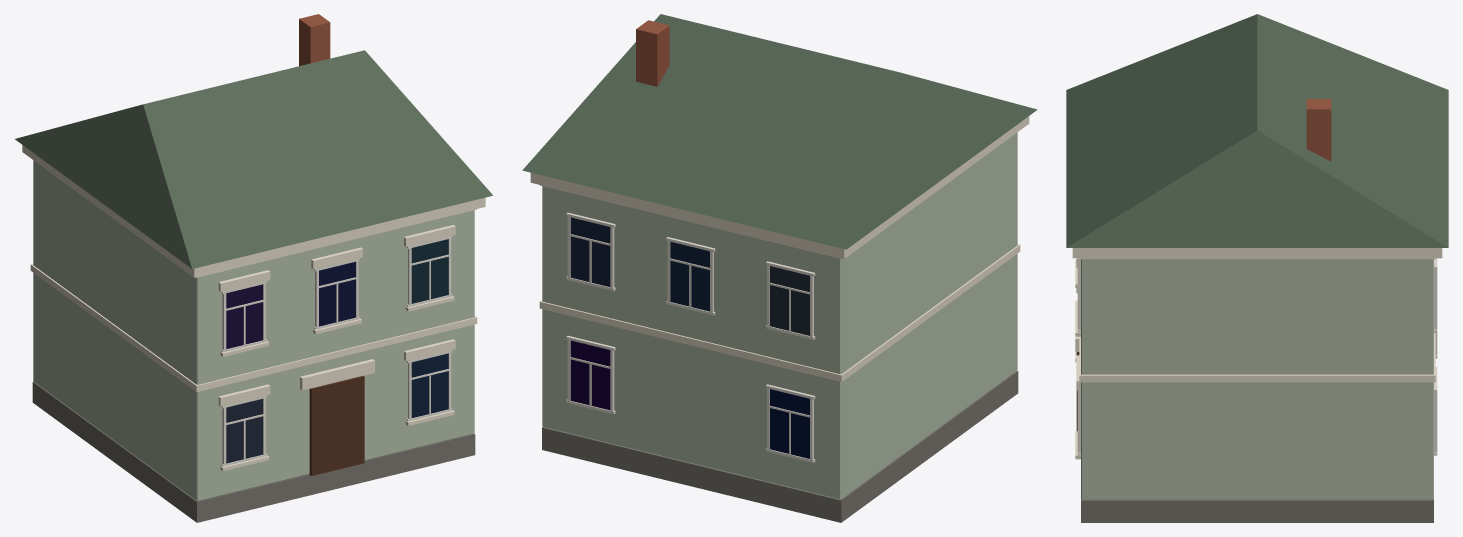
The model's file is old_b.glb.
3 renders of one model, left to right at view 1: azimuth 30°, elevation 25°; view 2: azimuth 150°, elevation 25°; view 3: azimuth 270°, elevation 25°, orthographic. The views are drawn at different scales.
Visible parts, largest first — view 1: old_b; view 2: old_b; view 3: old_b.
Part boxes in pixels (x1,y1,x2,y2): old_b: (15,14,492,522); old_b: (522,14,1037,522); old_b: (1066,14,1448,522).
Bounding box in the file's own units: 9.1 × 10.55 × 9.3.
